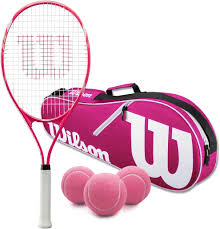tennis racket: (1, 1, 92, 229)
